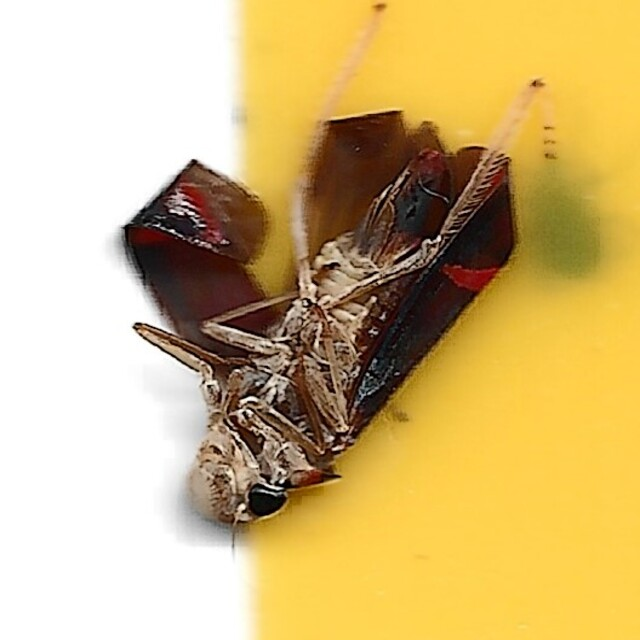Hemiptera: (121, 108, 519, 532)
